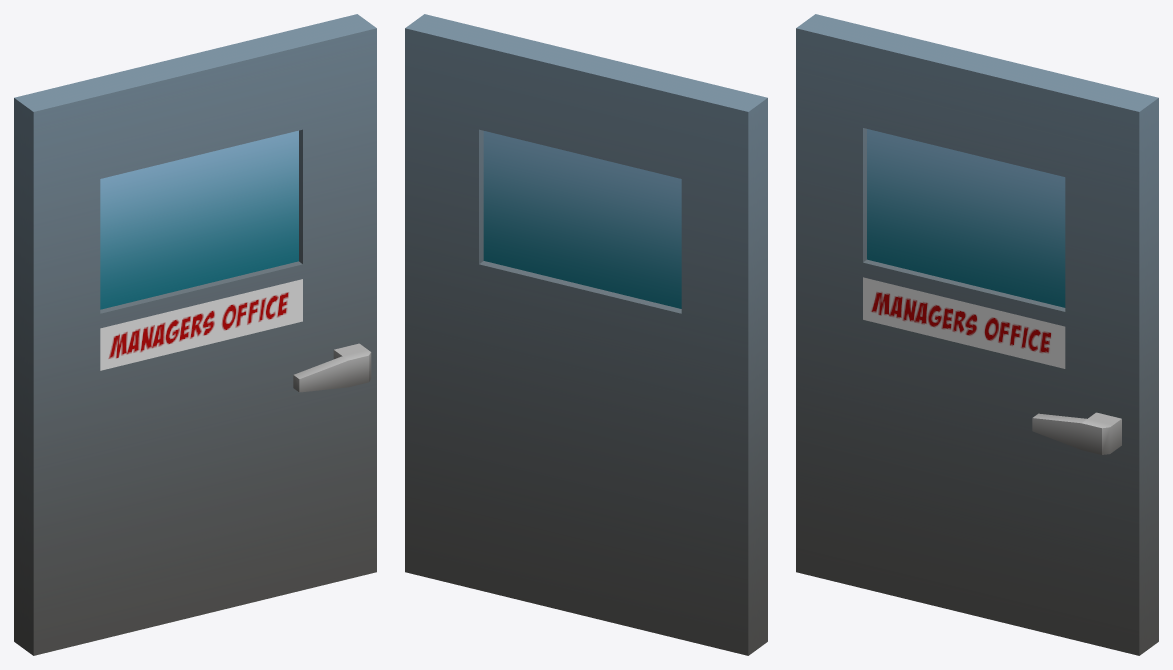
The model's file is geo_officeDoor.fbx.
3 views of the same model, side by side, from view 1: azimuth 30°, elevation 25°; view 2: azimuth 150°, elevation 25°; view 3: azimuth 330°, elevation 25° (orthographic).
Parts seen in each view (by area): view 1: geo_officeDoor; view 2: geo_officeDoor; view 3: geo_officeDoor.
Part boxes in pixels (<box>): geo_officeDoor: <box>14,14,376,655</box>; geo_officeDoor: <box>405,14,767,655</box>; geo_officeDoor: <box>796,14,1158,655</box>.
Size of the model in its own units: 213 by 322 by 36.8.
1 material, 1 textured.
